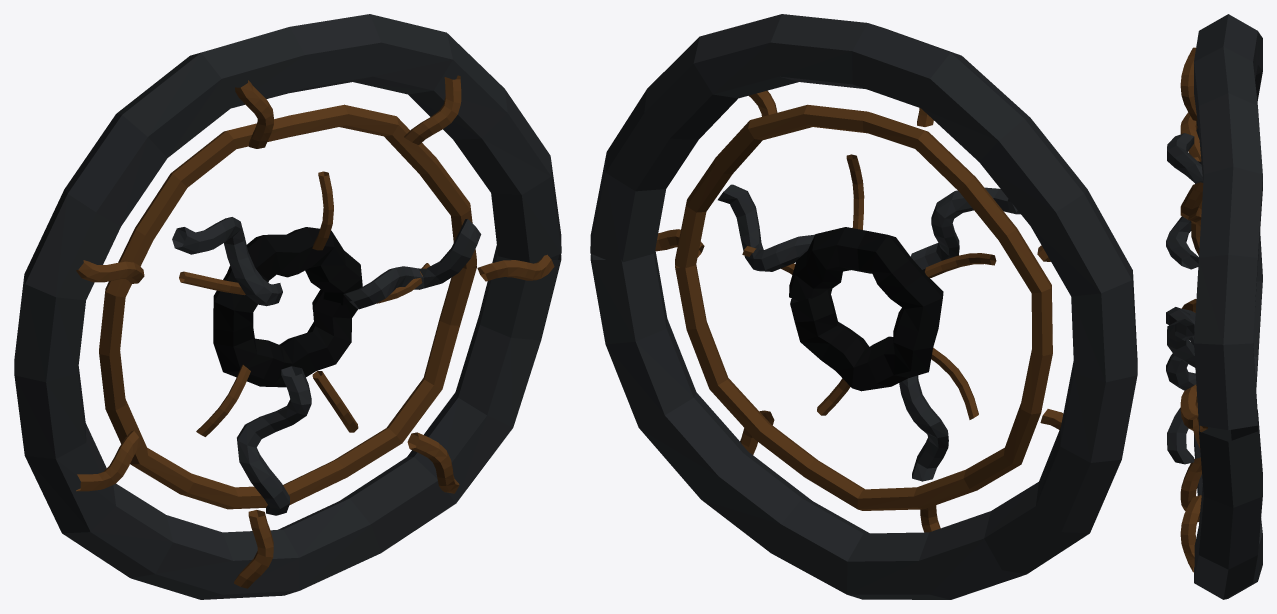
Rendered from B3_Seal_LOD1.obj.
3 views of the same model, side by side, from view 1: azimuth 30°, elevation 25°; view 2: azimuth 150°, elevation 25°; view 3: azimuth 270°, elevation 25° (orthographic). The views are drawn at different scales.
Size of the model in its own units: 0.9493 by 0.95 by 0.1562.
